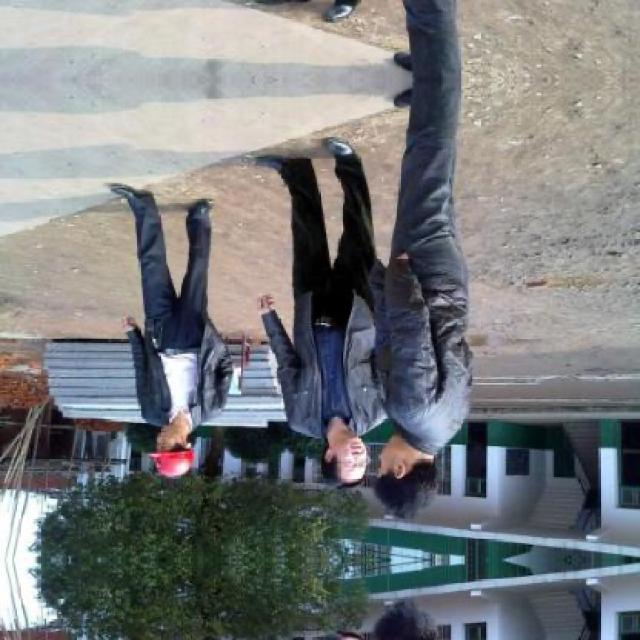con casco: (147, 434, 191, 484)
sin casco: (270, 448, 417, 505), (354, 442, 444, 518)
